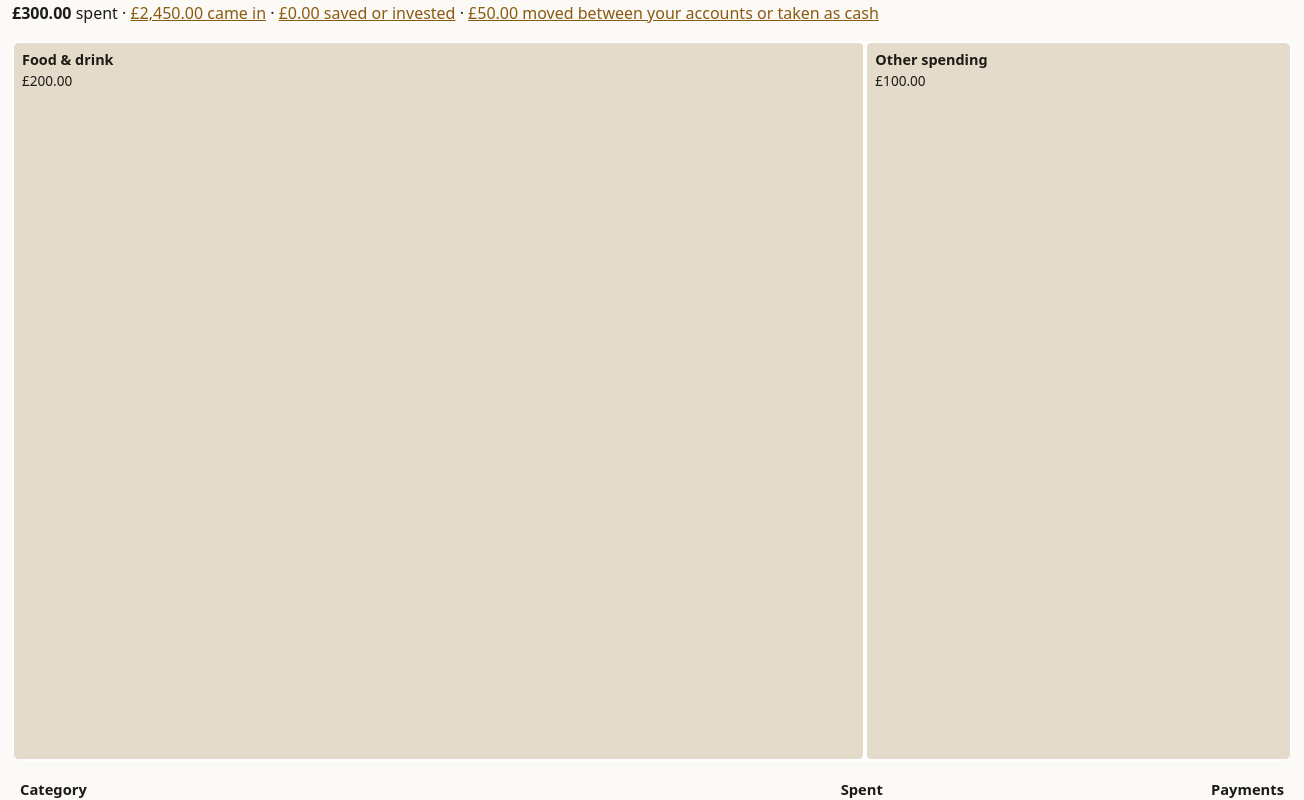
Test: after a failed "Apply to all" it shows the message and reloads
The image size is (1304, 800).
(page scrolled)
Click the button with aria-label "Other spending, £100.00": (1079, 401) [865, 41, 1292, 761]
(page scrolled)
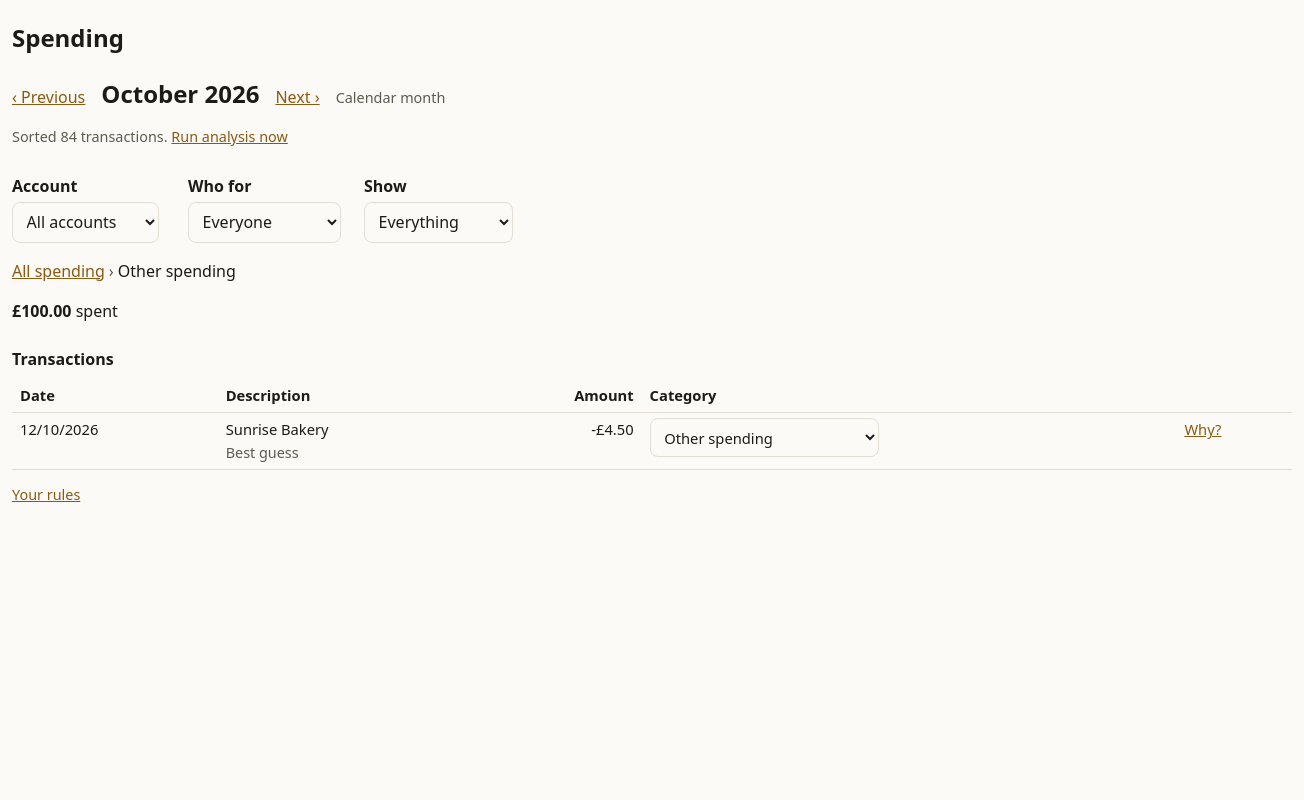
Now the dropdown named "Category for Sunrise Bakery on 12/10/2026" is enabled
Select "Food & drink › Eating out" in the dropdown named "Category for Sunrise Bakery on 12/10/2026": (764, 438) [650, 418, 879, 457]
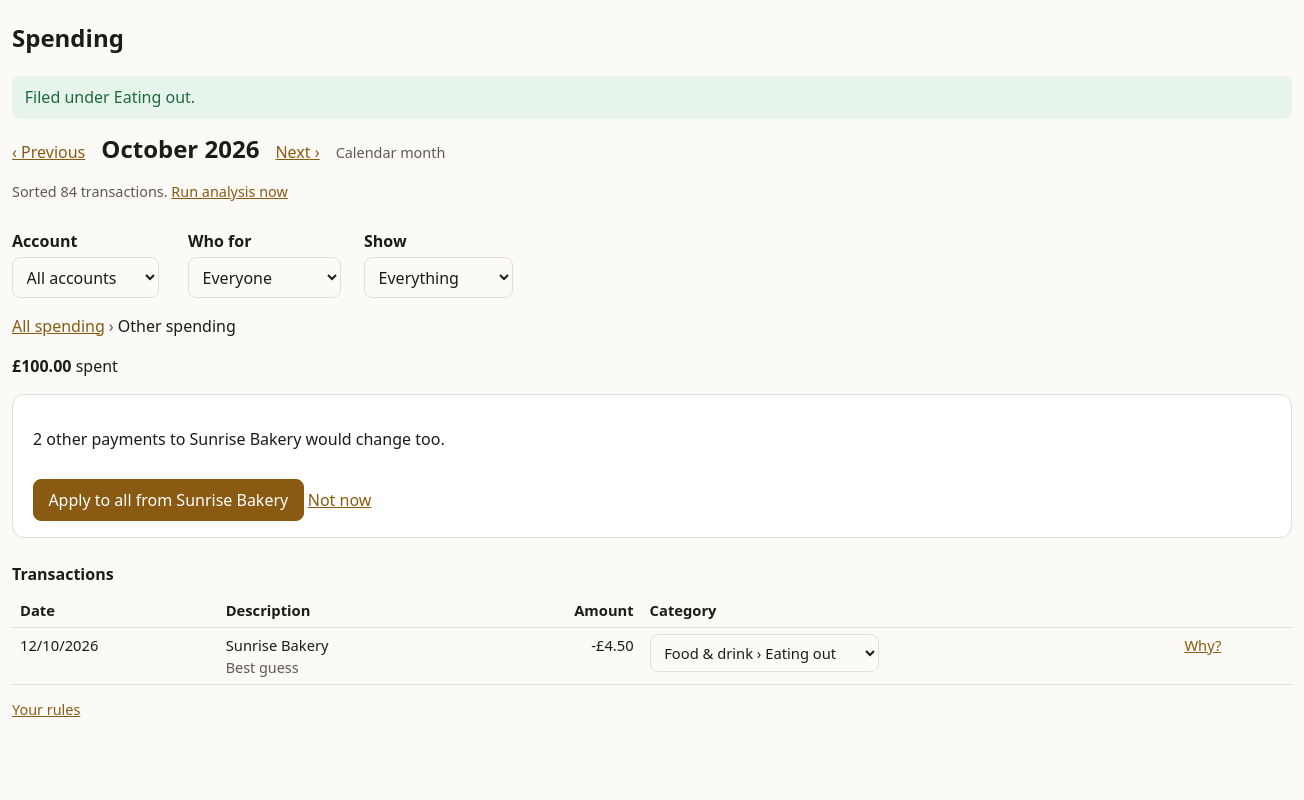
Now the button "Apply to all from Sunrise Bakery" is enabled
Click the button "Apply to all from Sunrise Bakery": (168, 500) [33, 479, 304, 521]
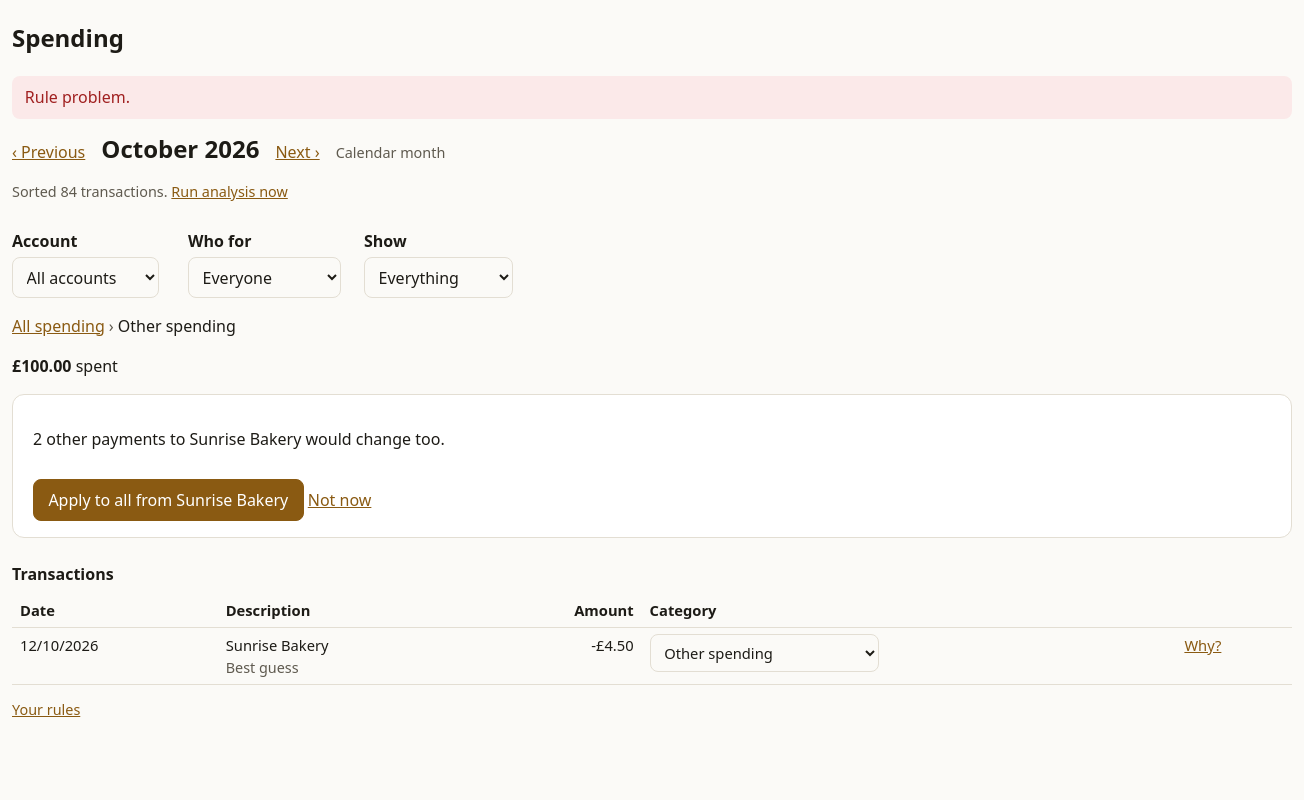
Now the text "Rule problem." is shown, box [12, 76, 1292, 119]
